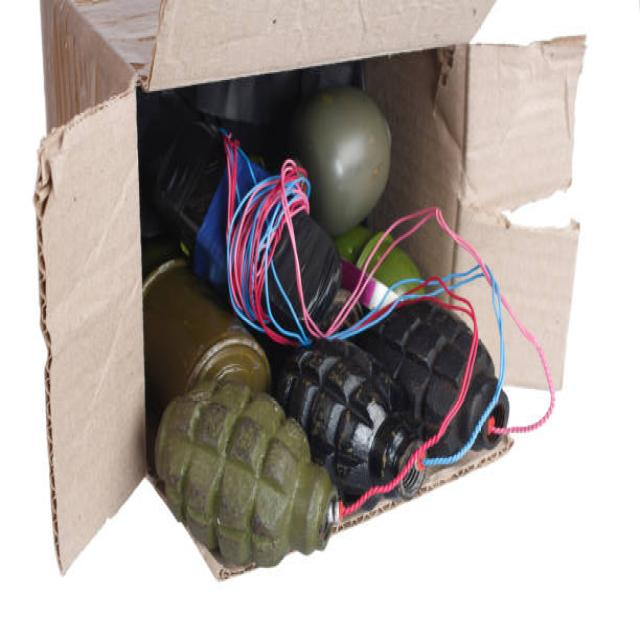grenade: (154, 378, 340, 567), (273, 339, 433, 502), (372, 292, 515, 453)
